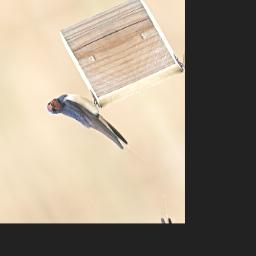Swallow: (41, 77, 149, 190)
